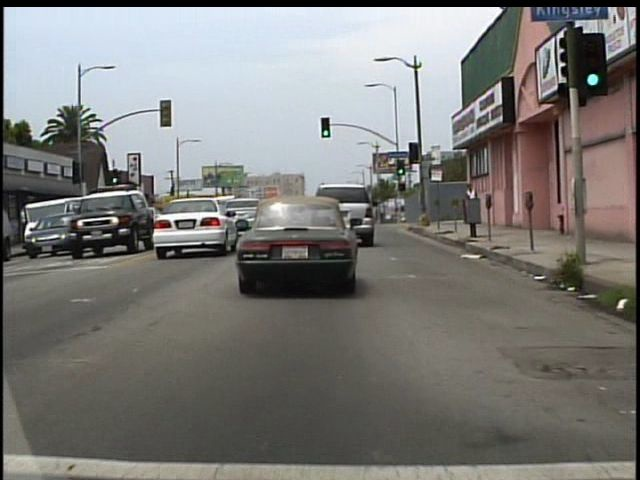person: (461, 183, 479, 230)
